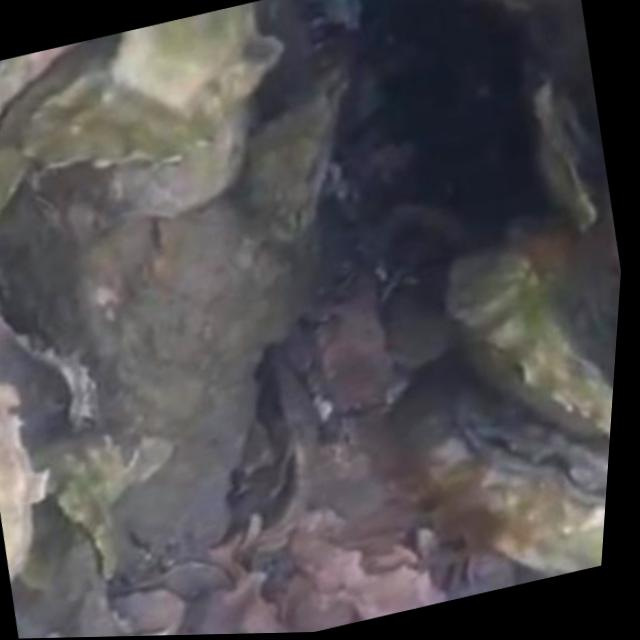Oyster-Closed: (0, 32, 123, 207), (244, 57, 353, 245), (454, 385, 610, 511)
Oyster-Indeterminate: (19, 1, 289, 176), (453, 242, 613, 445)
Oyster-Open: (529, 77, 609, 240)
